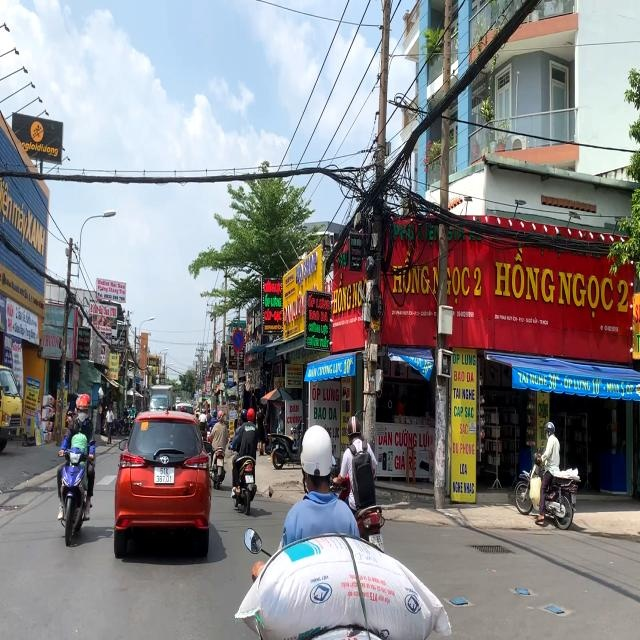bien_nguy_hiem: (232, 329, 244, 351), (227, 370, 234, 387)
